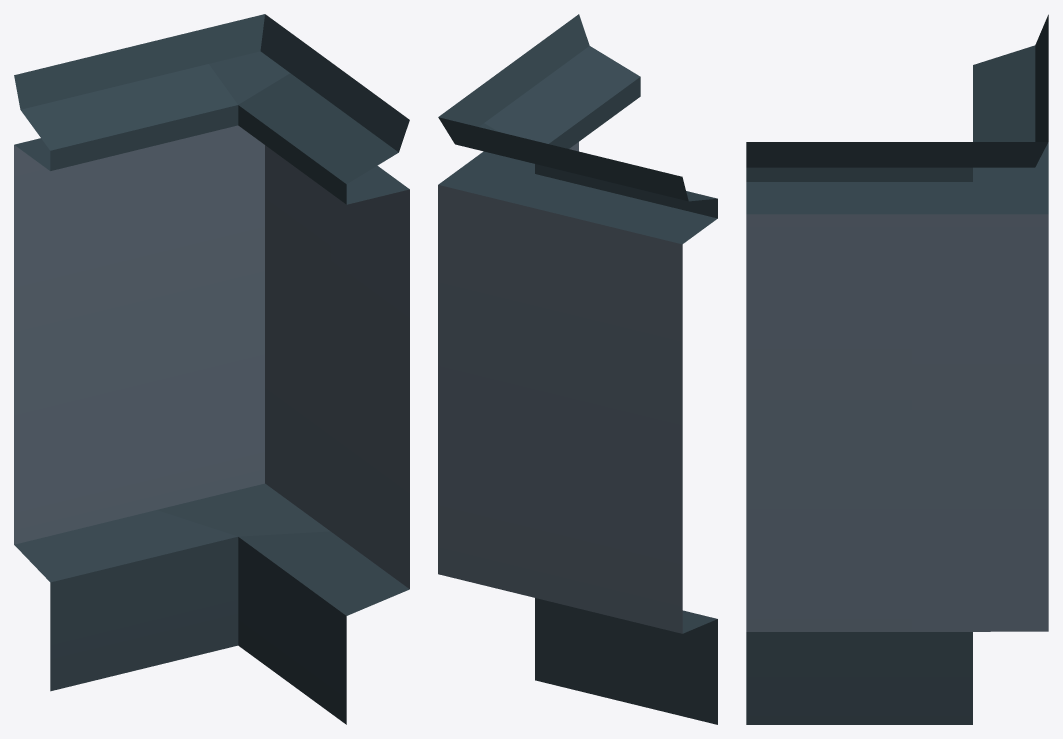
The model's file is corner_wall_outside_plain_A.fbx.
The picture shows the model from 3 angles, left to right: view 1: azimuth 30°, elevation 25°; view 2: azimuth 150°, elevation 25°; view 3: azimuth 270°, elevation 25°; orthographic projection. The views are drawn at different scales.
Parts seen in each view (by area): view 1: corner_wall_outside_plain_A; view 2: corner_wall_outside_plain_A; view 3: corner_wall_outside_plain_A.
Part boxes in pixels (x1,y1,x2,y2): corner_wall_outside_plain_A: (14, 14, 409, 724); corner_wall_outside_plain_A: (438, 14, 717, 724); corner_wall_outside_plain_A: (746, 14, 1048, 724).
Bounding box in the file's own units: 134 × 300 × 133.
